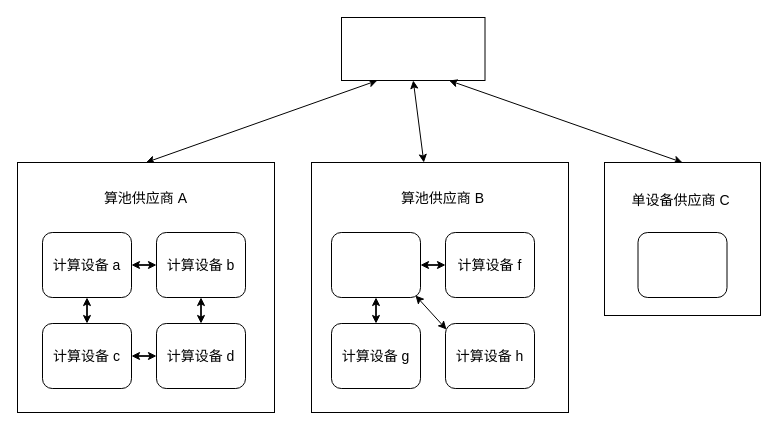
Image size: 778x430. Some labels were removed from this diagram. The centre of each missing label's shape, as x and y in pixels:
"DeFaaS 平台" goes at point 412,48.
"计算设备 e" goes at point 375,265.
"计算设备 i" goes at point 682,265.
